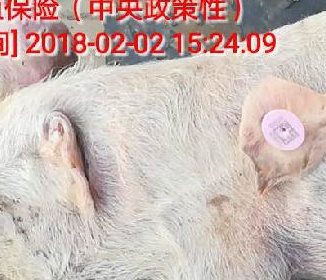text: (247, 97, 318, 158)
